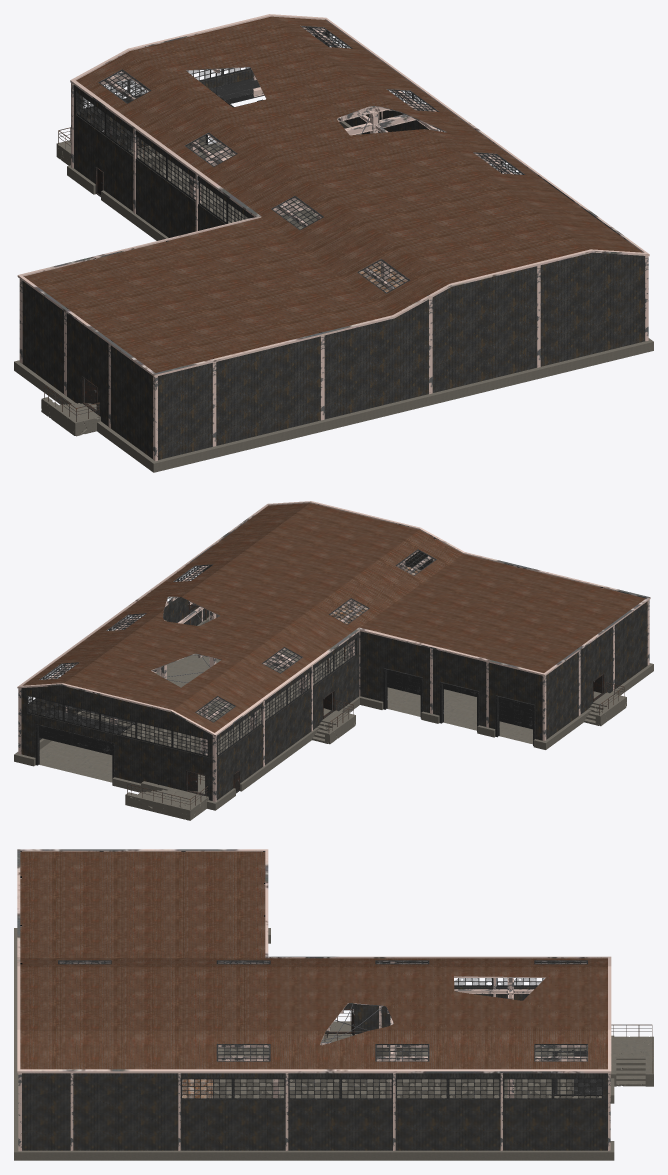
3 views of the same model, one above another, from view 1: azimuth 30°, elevation 25°; view 2: azimuth 150°, elevation 25°; view 3: azimuth 270°, elevation 25° (orthographic). The views are drawn at different scales.
Visible parts, largest first — view 1: Roof, WarehouseWalls, WarehouseBase, Windows, SideSupportBeam, MainSupportBeam, ConcreteSteps, Floor, MainGate.001; view 2: Roof, WarehouseWalls, Floor, Windows, ConcreteSteps, WarehouseBase, SideSupportBeam, MainSupportBeam, MainGate.001, SmallGateVar1, SmallGateVar2, Railings (+2 smaller); view 3: Roof, WarehouseWalls, Windows, WarehouseBase, Floor, ConcreteSteps, MainSupportBeam, SideSupportBeam, MainGate.001, Walkway.001.
Boxes of the visible parts, x1,y1,x2,y2 form: Roof: (17,14,649,376); WarehouseWalls: (22,31,644,459); WarehouseBase: (14,121,653,472); Windows: (76,26,524,293); SideSupportBeam: (19,83,648,461); MainSupportBeam: (101,27,513,289); ConcreteSteps: (41,140,175,436); Floor: (156,142,316,229); MainGate.001: (205,41,323,145); Roof: (17,501,650,736); WarehouseWalls: (21,551,647,800); Floor: (39,644,532,784); Windows: (27,549,436,756); ConcreteSteps: (125,691,626,820); WarehouseBase: (14,616,653,810); SideSupportBeam: (18,537,649,801); MainSupportBeam: (48,550,431,755); MainGate.001: (35,704,135,778); SmallGateVar1: (495,695,535,745); SmallGateVar2: (383,668,422,718); Railings: (127,682,624,809); Roof: (17,849,611,1073); WarehouseWalls: (22,962,607,1150); Windows: (58,960,603,1099); WarehouseBase: (14,928,614,1160); Floor: (213,1048,601,1098); ConcreteSteps: (322,1021,653,1086); MainSupportBeam: (60,961,587,1098); SideSupportBeam: (18,851,610,1151); MainGate.001: (552,1050,601,1096); Walkway.001: (182,1079,212,1098).
Bounding box in the file's own units: 30.93 × 6.43 × 35.73.
13 materials, 13 textured.
